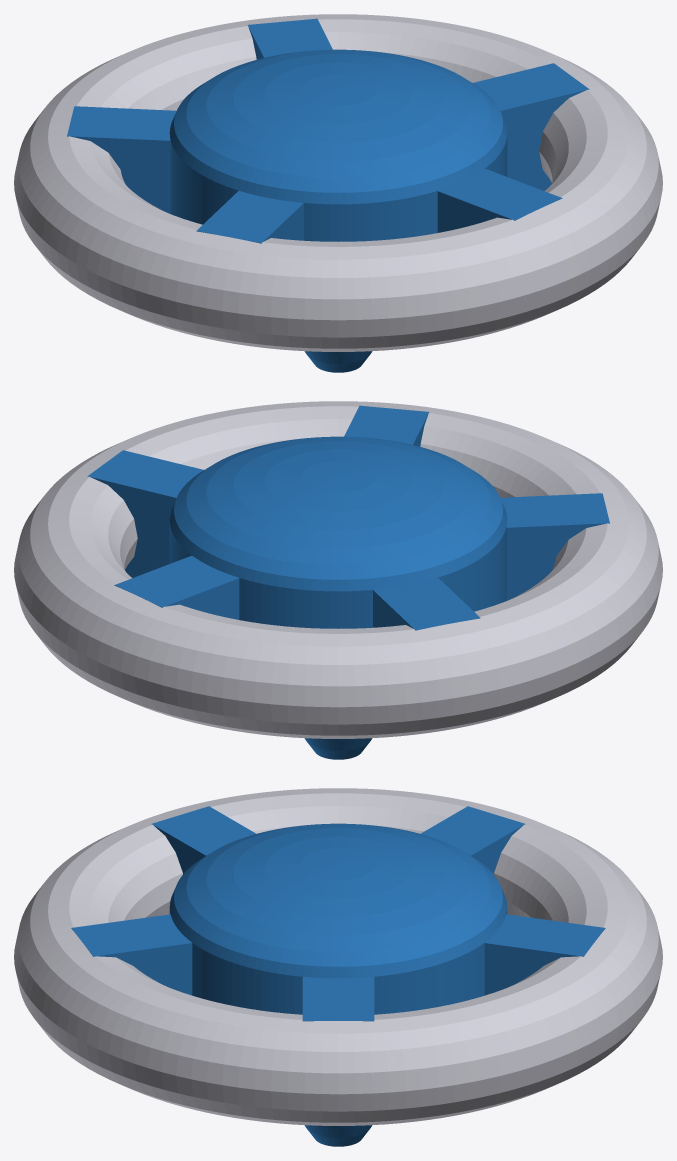
Rendered from top_defence.obj.
3 renders of one model, top to bottom at view 1: azimuth 30°, elevation 25°; view 2: azimuth 150°, elevation 25°; view 3: azimuth 270°, elevation 25°, orthographic.
Parts seen in each view (by area): view 1: Defence; view 2: Defence; view 3: Defence.
Part boxes in pixels (x1=…): Defence: x1=14, y1=14, x2=662, y2=372; Defence: x1=14, y1=401, x2=662, y2=759; Defence: x1=14, y1=788, x2=662, y2=1146.
Size of the model in its own units: 0.048 by 0.0223 by 0.048.
